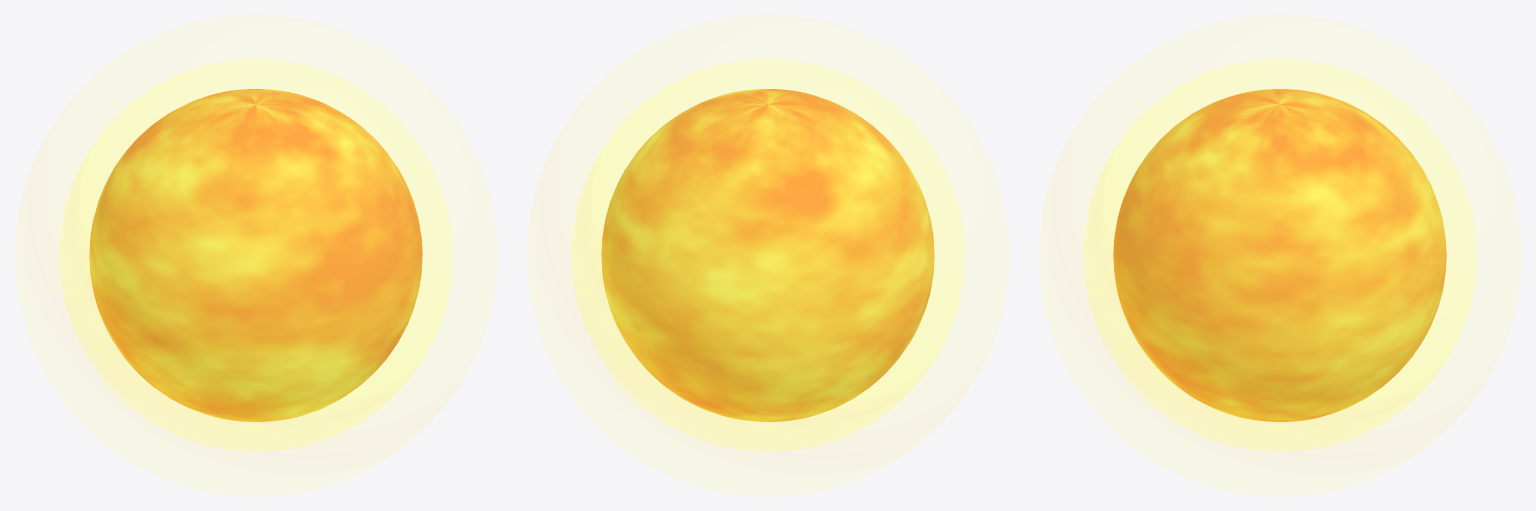
File: sol.glb
3 renders of one model, left to right at view 1: azimuth 30°, elevation 25°; view 2: azimuth 150°, elevation 25°; view 3: azimuth 270°, elevation 25°, orthographic.
Parts seen in each view (by area): view 1: Halo_interno, Sol; view 2: Halo_interno, Sol; view 3: Halo_interno, Sol.
Boxes of the visible parts, left/top/right/bottom form: Halo_interno: left=59, top=59, right=452, bottom=451; Sol: left=89, top=89, right=422, bottom=421; Halo_interno: left=571, top=59, right=964, bottom=451; Sol: left=601, top=89, right=934, bottom=421; Halo_interno: left=1083, top=59, right=1476, bottom=451; Sol: left=1113, top=89, right=1446, bottom=421.
Bounding box in the file's own units: 2.9 × 2.9 × 2.9.
Materials: 3 (1 with a texture image).
